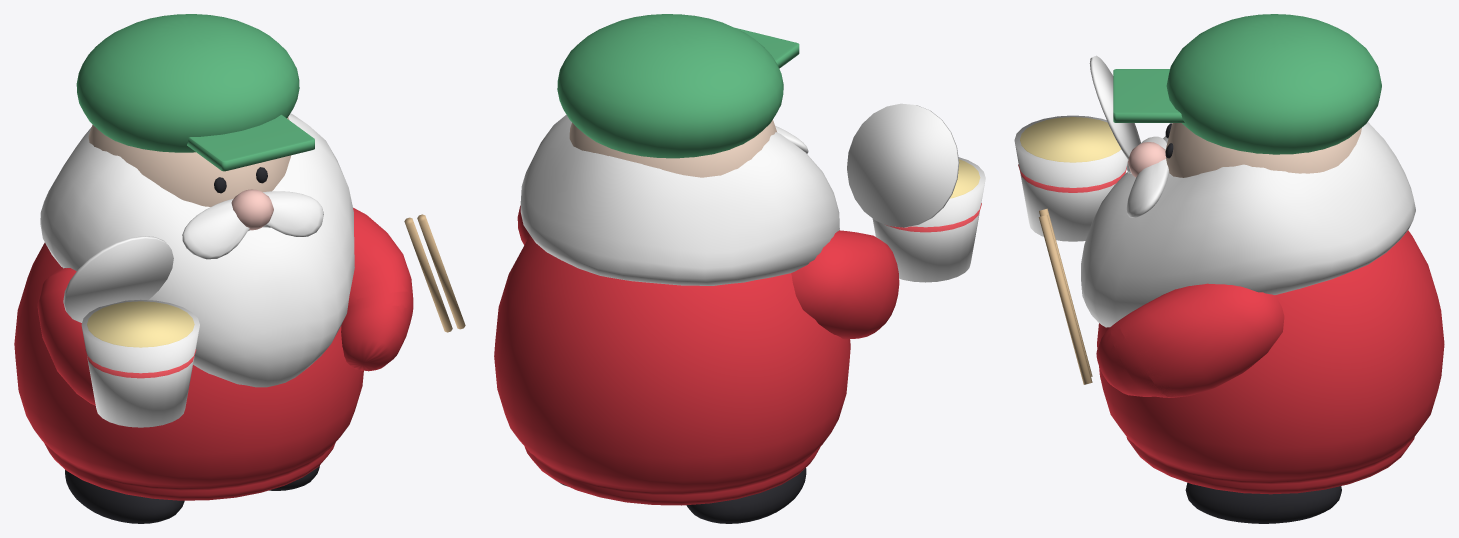
File: store.glb
The picture shows the model from 3 angles, left to right: view 1: azimuth 30°, elevation 25°; view 2: azimuth 150°, elevation 25°; view 3: azimuth 270°, elevation 25°; orthographic projection. The views are drawn at different scales.
Visible parts, largest first — view 1: store_white, store_red, store_green, store_skin, store_noodle, store_black, store_wood, store_nose, store_ramenred; view 2: store_red, store_white, store_green, store_skin, store_black, store_noodle; view 3: store_red, store_white, store_green, store_skin, store_black, store_noodle, store_wood, store_nose, store_ramenred.
Part boxes in pixels (x1,y1,x2,y2): store_white: (40, 113, 354, 427); store_red: (14, 207, 413, 500); store_green: (76, 14, 314, 171); store_skin: (88, 117, 290, 206); store_noodle: (87, 301, 194, 347); store_black: (65, 167, 319, 523); store_wood: (404, 214, 465, 332); store_nose: (231, 189, 273, 230); store_ramenred: (85, 349, 196, 378); store_red: (494, 205, 899, 505); store_white: (520, 103, 985, 285); store_green: (557, 14, 799, 158); store_skin: (569, 120, 776, 177); store_black: (559, 468, 806, 523); store_noodle: (950, 159, 980, 198); store_red: (1096, 230, 1444, 494); store_white: (1014, 55, 1415, 327); store_green: (1113, 14, 1381, 154); store_skin: (1165, 123, 1361, 177); store_black: (1165, 123, 1341, 523); store_noodle: (1020, 117, 1120, 162); store_wood: (1039, 208, 1092, 384); store_nose: (1127, 142, 1165, 177); store_ramenred: (1018, 164, 1126, 192).
Size of the model in its own units: 2.4 by 2.7 by 2.35.
